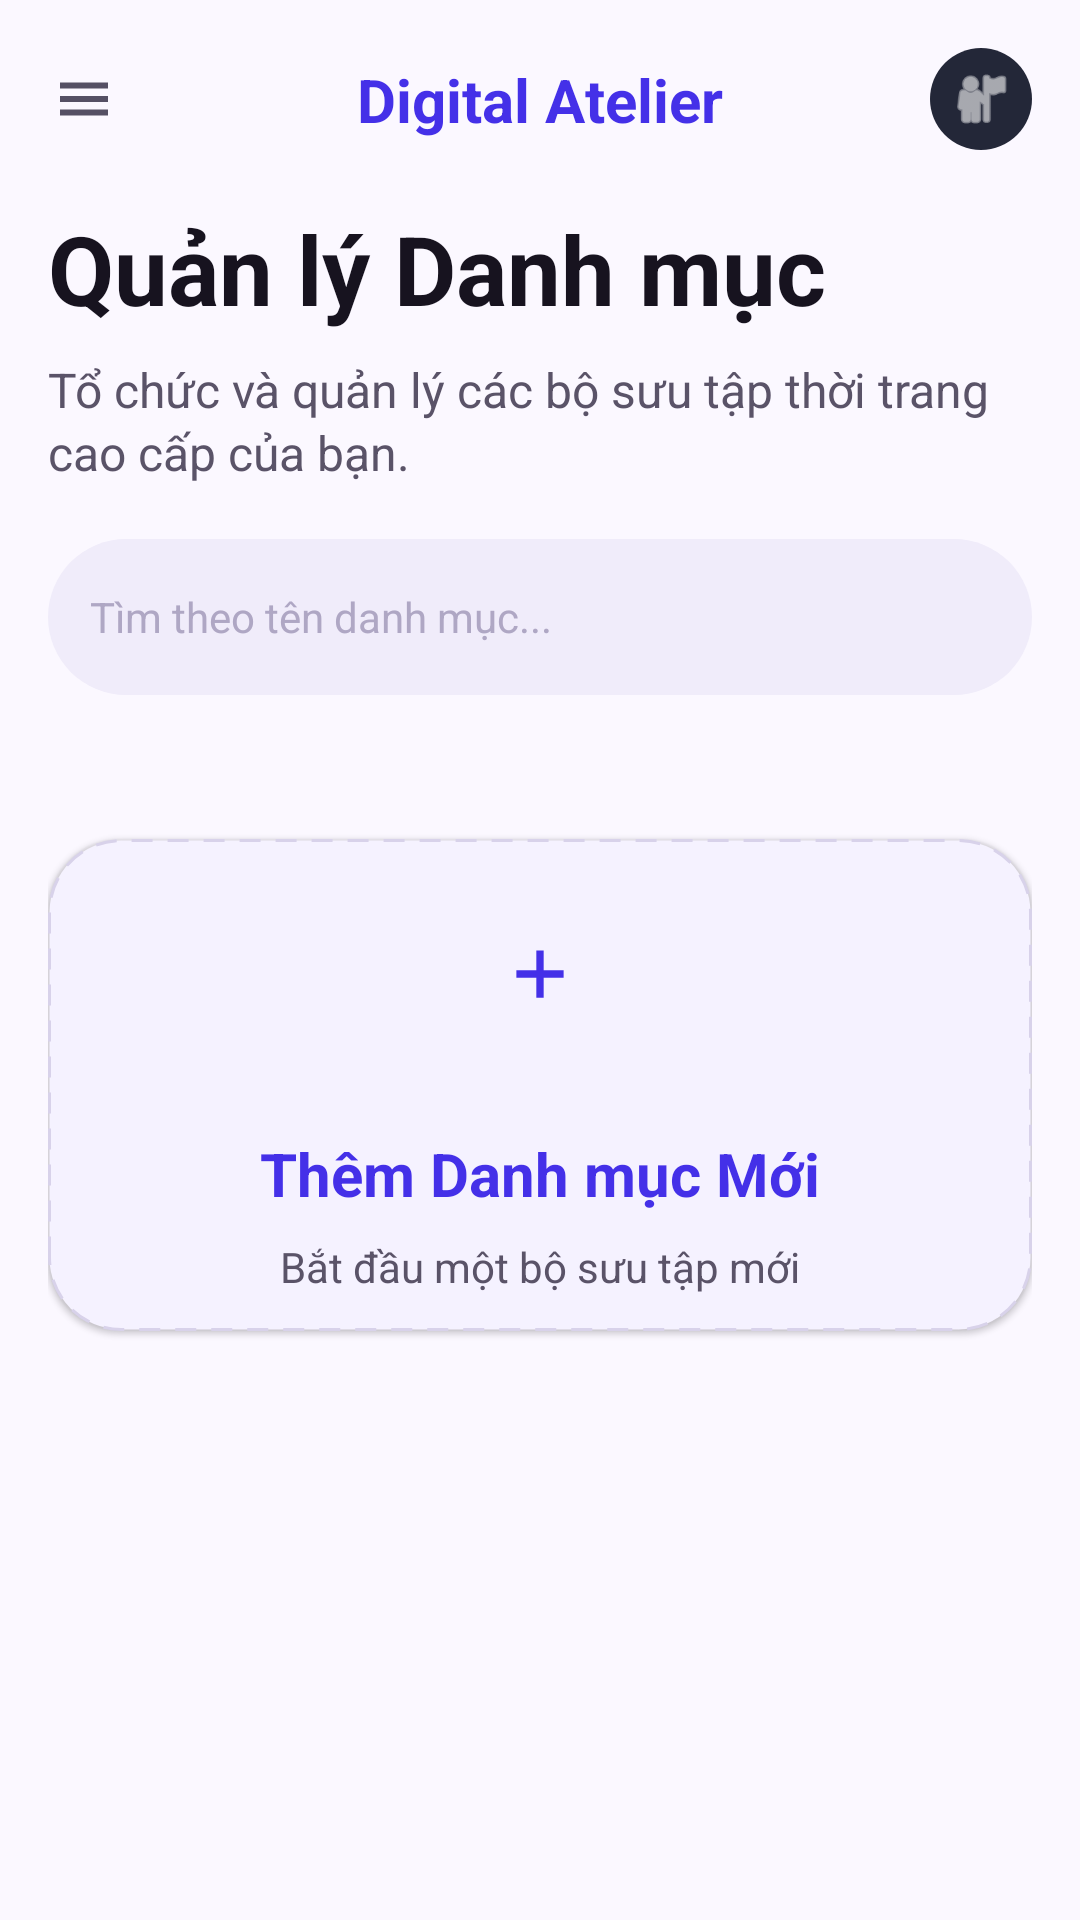

Icons on this 1080px x 1920px Android screen, each with the point to tap as point (x, y):
Mở menu: point (84, 99)
plus simple: point (540, 974)
